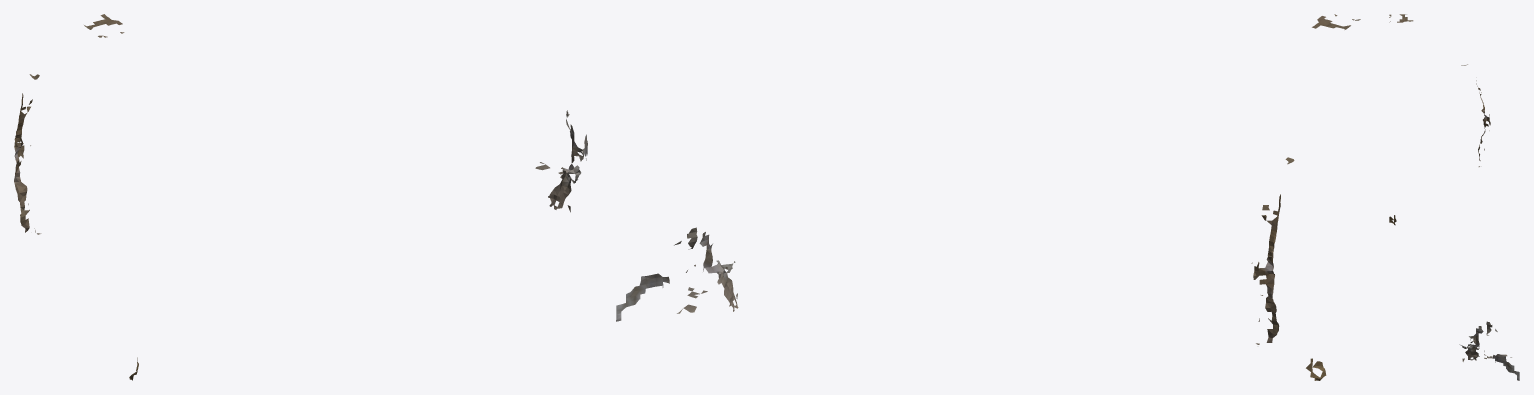
Rendered from coarse.glb.
3 views of the same model, side by side, from view 1: azimuth 30°, elevation 25°; view 2: azimuth 150°, elevation 25°; view 3: azimuth 270°, elevation 25° (orthographic). The views are drawn at different scales.
Size of the model in its own units: 2.55 by 1.44 by 0.8465.
